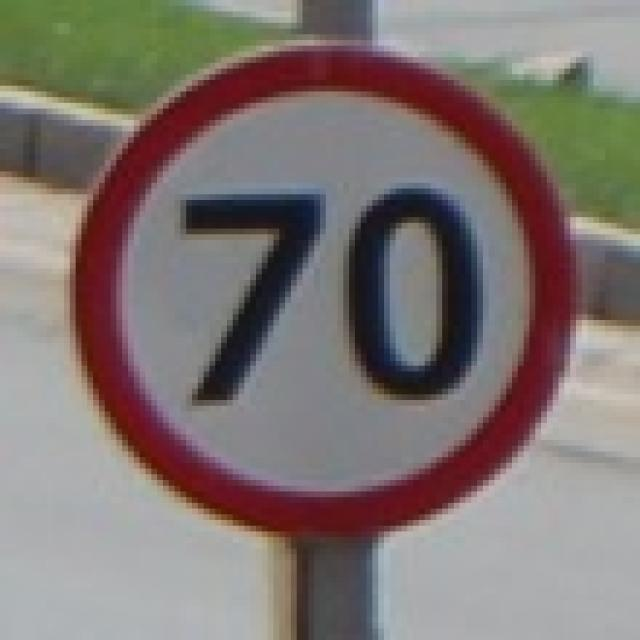Speed Limit -70-: (176, 180, 486, 415)
